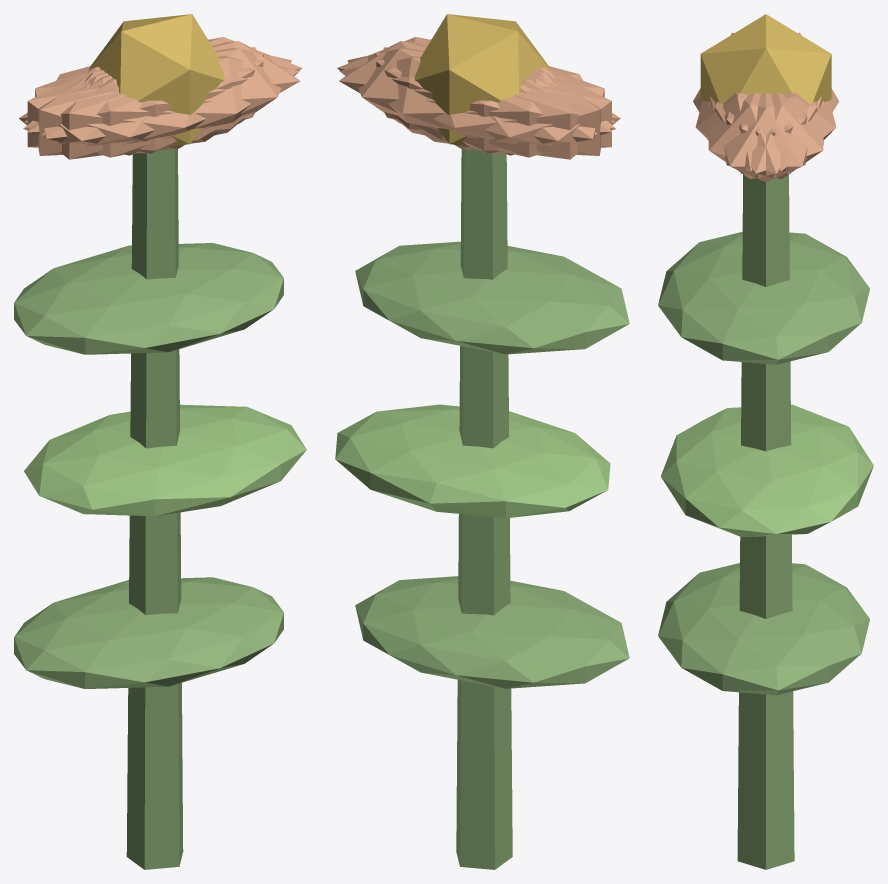
The model's file is paederia-foetida.glb.
The picture shows the model from 3 angles, left to right: view 1: azimuth 30°, elevation 25°; view 2: azimuth 150°, elevation 25°; view 3: azimuth 270°, elevation 25°; orthographic projection.
Parts seen in each view (by area): view 1: stem, leaf2, leaf1, leaf0, center, petal1, petal6, petal2, petal5, petal7, petal0, petal4 (+2 smaller); view 2: stem, leaf1, leaf2, leaf0, center, petal8, petal3, petal7, petal4, petal2, petal0, petal5 (+2 smaller); view 3: stem, leaf1, leaf2, leaf0, center, petal0, petal5, petal4, petal1, petal8.
Boxes of the visible parts, x1=… form: stem: x1=126, y1=149, x2=183, y2=869; leaf2: x1=14, y1=243, x2=283, y2=354; leaf1: x1=24, y1=404, x2=306, y2=516; leaf0: x1=14, y1=577, x2=283, y2=688; center: x1=88, y1=14, x2=224, y2=146; petal1: x1=23, y1=56, x2=299, y2=157; petal6: x1=19, y1=68, x2=218, y2=159; petal2: x1=38, y1=47, x2=255, y2=155; petal5: x1=42, y1=48, x2=291, y2=150; petal7: x1=27, y1=53, x2=263, y2=153; petal0: x1=88, y1=41, x2=300, y2=140; petal4: x1=24, y1=37, x2=301, y2=132; stem: x1=456, y1=149, x2=512, y2=869; leaf1: x1=335, y1=404, x2=610, y2=518; leaf2: x1=355, y1=241, x2=629, y2=354; leaf0: x1=355, y1=576, x2=629, y2=688; center: x1=414, y1=14, x2=550, y2=146; petal8: x1=340, y1=56, x2=615, y2=157; petal3: x1=420, y1=68, x2=620, y2=159; petal7: x1=383, y1=47, x2=601, y2=155; petal4: x1=347, y1=48, x2=597, y2=150; petal2: x1=375, y1=53, x2=611, y2=153; petal0: x1=339, y1=41, x2=550, y2=140; petal5: x1=337, y1=37, x2=614, y2=132; stem: x1=737, y1=174, x2=794, y2=869; leaf1: x1=660, y1=404, x2=873, y2=537; leaf2: x1=658, y1=231, x2=869, y2=364; leaf0: x1=658, y1=563, x2=869, y2=695; center: x1=700, y1=14, x2=831, y2=103; petal0: x1=710, y1=93, x2=822, y2=182; petal5: x1=708, y1=93, x2=817, y2=178; petal4: x1=715, y1=93, x2=823, y2=178; petal1: x1=695, y1=92, x2=807, y2=171; petal8: x1=724, y1=92, x2=836, y2=171.
Bounding box in the file's own units: 0.149 × 0.4259 × 0.1009.
